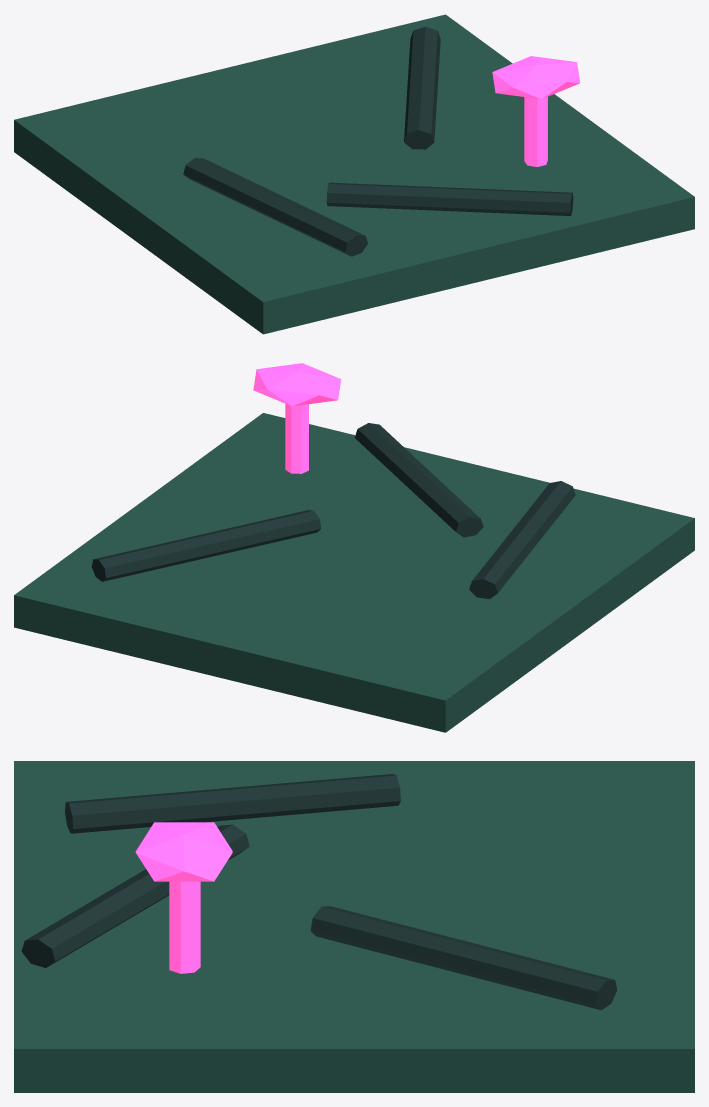
File: df_v2_low_ground_tile_a.glb
The picture shows the model from 3 angles, top to bottom: view 1: azimuth 30°, elevation 25°; view 2: azimuth 150°, elevation 25°; view 3: azimuth 270°, elevation 25°; orthographic projection. The views are drawn at different scales.
Visible parts, largest first — view 1: chunky_floor_slab, surface_root_2, surface_root_0, surface_root_1, tiny_edge_glow_cap, tiny_edge_glow_stem; view 2: chunky_floor_slab, surface_root_1, surface_root_2, surface_root_0, tiny_edge_glow_cap, tiny_edge_glow_stem; view 3: chunky_floor_slab, surface_root_0, surface_root_1, surface_root_2, tiny_edge_glow_cap, tiny_edge_glow_stem.
Boxes of the visible parts, x1=… form: chunky_floor_slab: x1=14, y1=14, x2=694, y2=334; surface_root_2: x1=326, y1=182, x2=573, y2=215; surface_root_0: x1=183, y1=158, x2=367, y2=256; surface_root_1: x1=404, y1=26, x2=440, y2=149; tiny_edge_glow_cap: x1=492, y1=56, x2=580, y2=99; tiny_edge_glow_stem: x1=524, y1=97, x2=547, y2=166; chunky_floor_slab: x1=14, y1=413, x2=694, y2=732; surface_root_1: x1=91, y1=510, x2=321, y2=581; surface_root_2: x1=355, y1=423, x2=483, y2=537; surface_root_0: x1=469, y1=481, x2=575, y2=599; tiny_edge_glow_cap: x1=253, y1=363, x2=341, y2=406; tiny_edge_glow_stem: x1=285, y1=404, x2=308, y2=473; chunky_floor_slab: x1=14, y1=761, x2=694, y2=1092; surface_root_0: x1=65, y1=774, x2=400, y2=833; surface_root_1: x1=310, y1=906, x2=617, y2=1010; surface_root_2: x1=21, y1=824, x2=249, y2=967; tiny_edge_glow_cap: x1=135, y1=822, x2=232, y2=881; tiny_edge_glow_stem: x1=169, y1=881, x2=200, y2=973.
Bounding box in the file's own units: 1.12 × 0.3518 × 1.12.
